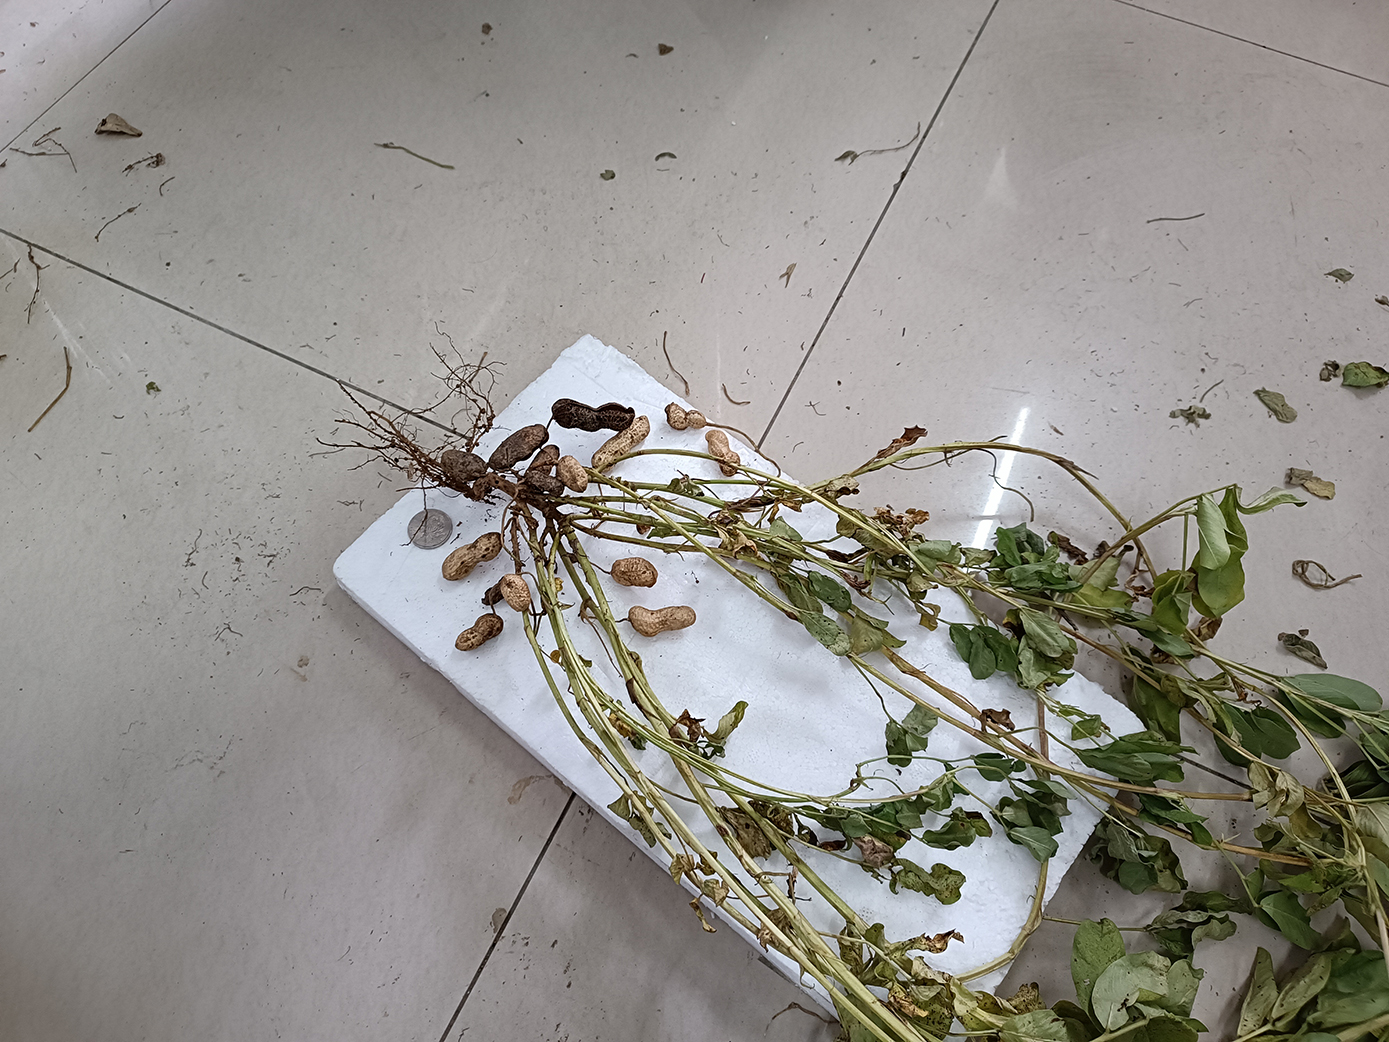h: (591, 414, 650, 473), (441, 532, 502, 579), (629, 605, 697, 636), (704, 430, 740, 475), (611, 557, 658, 589), (556, 455, 588, 491), (665, 404, 706, 431), (501, 576, 530, 612)
l: (488, 422, 548, 471), (551, 398, 634, 432), (455, 612, 503, 652), (443, 449, 486, 476), (526, 471, 565, 498), (528, 444, 557, 473), (484, 582, 503, 606)
